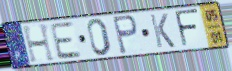0: (86, 18, 113, 58)
E: (48, 20, 84, 61)
F: (173, 7, 201, 49)
H: (21, 22, 57, 65)
K: (148, 12, 177, 50)
P: (110, 13, 139, 56)
